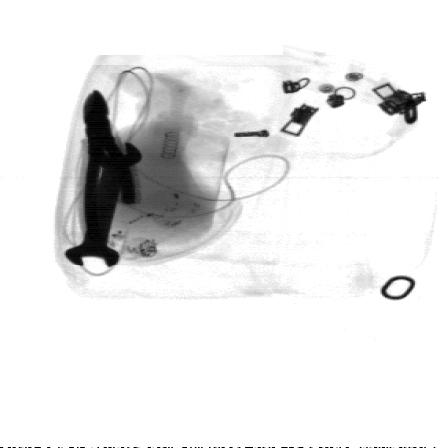Pliers: (85, 89, 138, 237)
Wrench: (62, 140, 143, 269)
